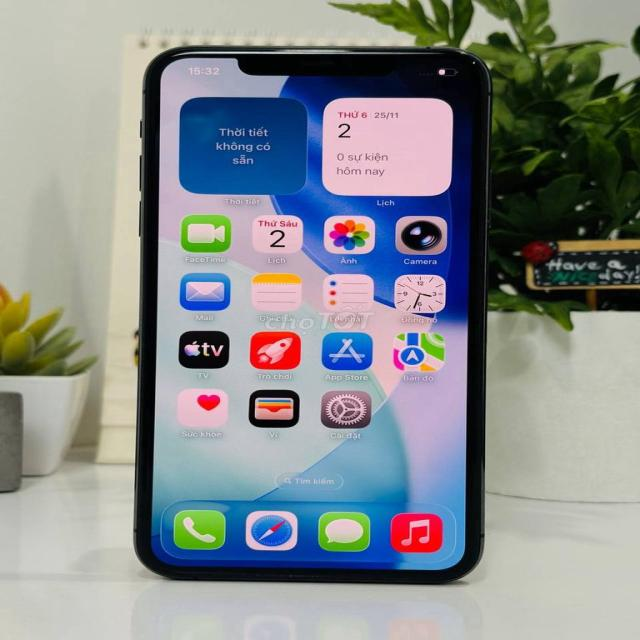gen_11: (118, 38, 499, 587)
